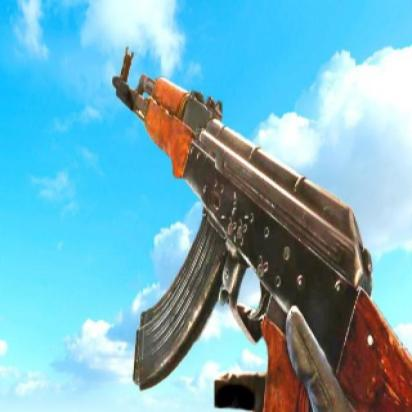Gun: (106, 43, 410, 410)
